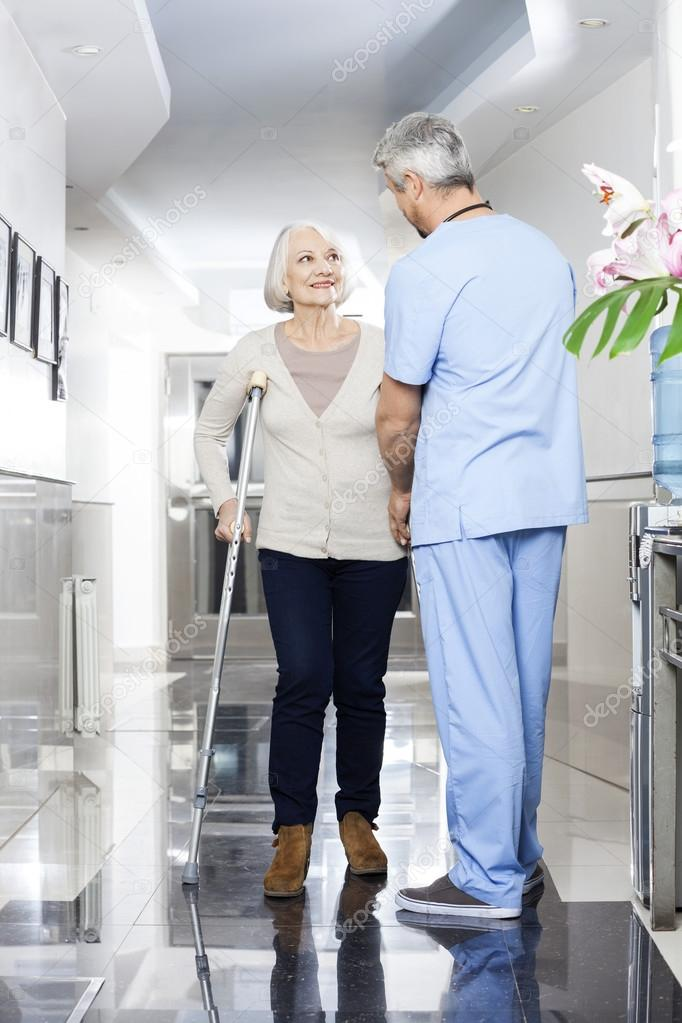crutches: (180, 221, 404, 900)
